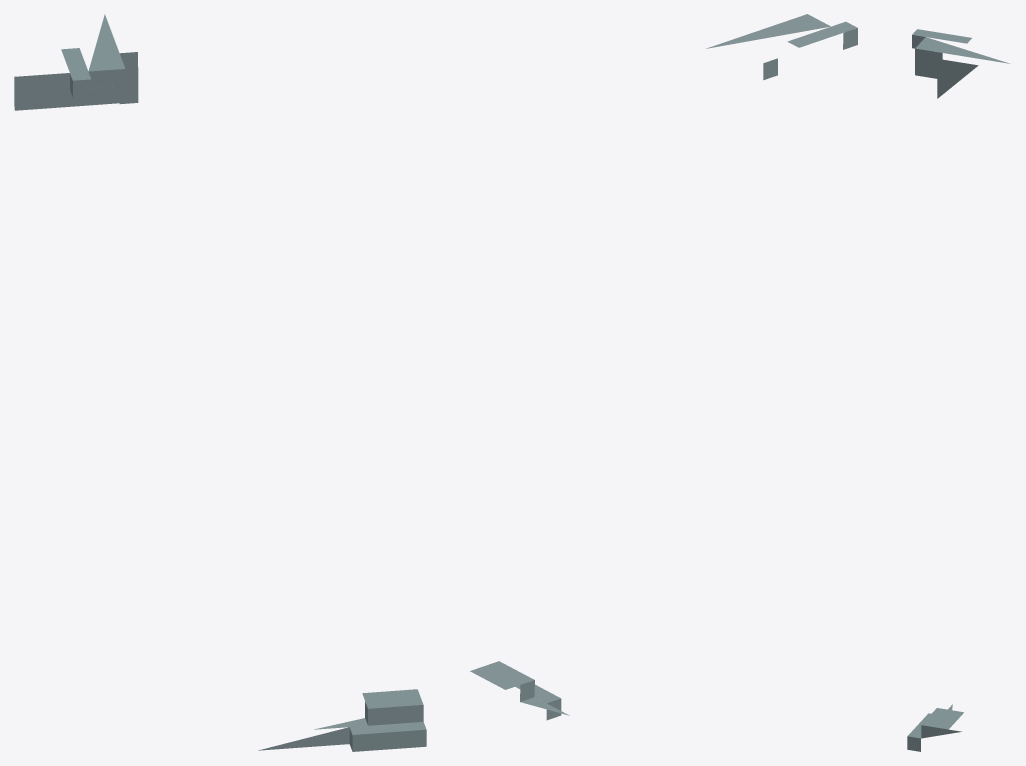
The picture shows the model from 3 angles, left to right: view 1: azimuth 30°, elevation 25°; view 2: azimuth 150°, elevation 25°; view 3: azimuth 270°, elevation 25°; orthographic projection. The views are drawn at different scales.
Visible parts, largest first — view 1: measured-industrial; view 2: measured-industrial; view 3: measured-industrial.
Boxes of the visible parts, x1=… form: measured-industrial: x1=14, y1=14, x2=426, y2=751; measured-industrial: x1=470, y1=14, x2=857, y2=720; measured-industrial: x1=907, y1=29, x2=1010, y2=751.
Size of the model in its own units: 37.89 by 65.95 by 10.61.
